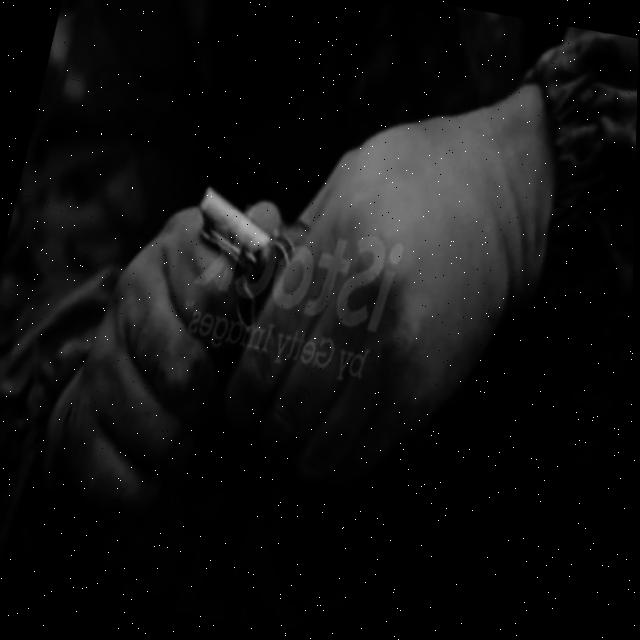grenade: (163, 160, 319, 334)
